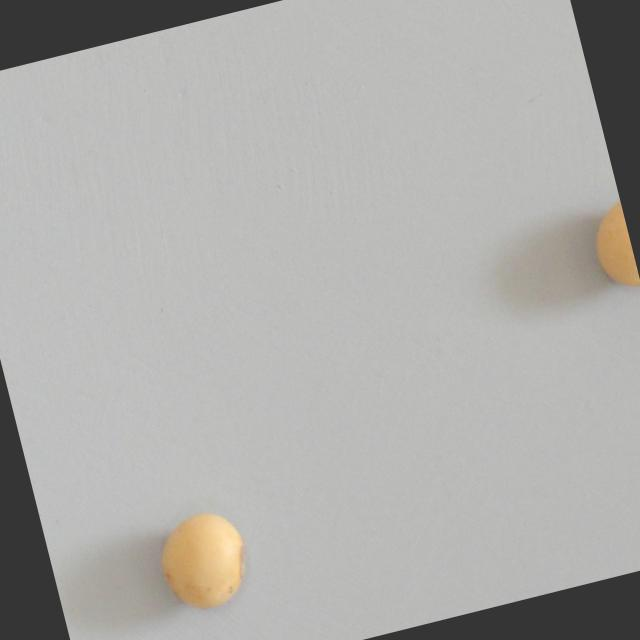cuerpos_extranos: (136, 497, 260, 623), (579, 190, 640, 301)
